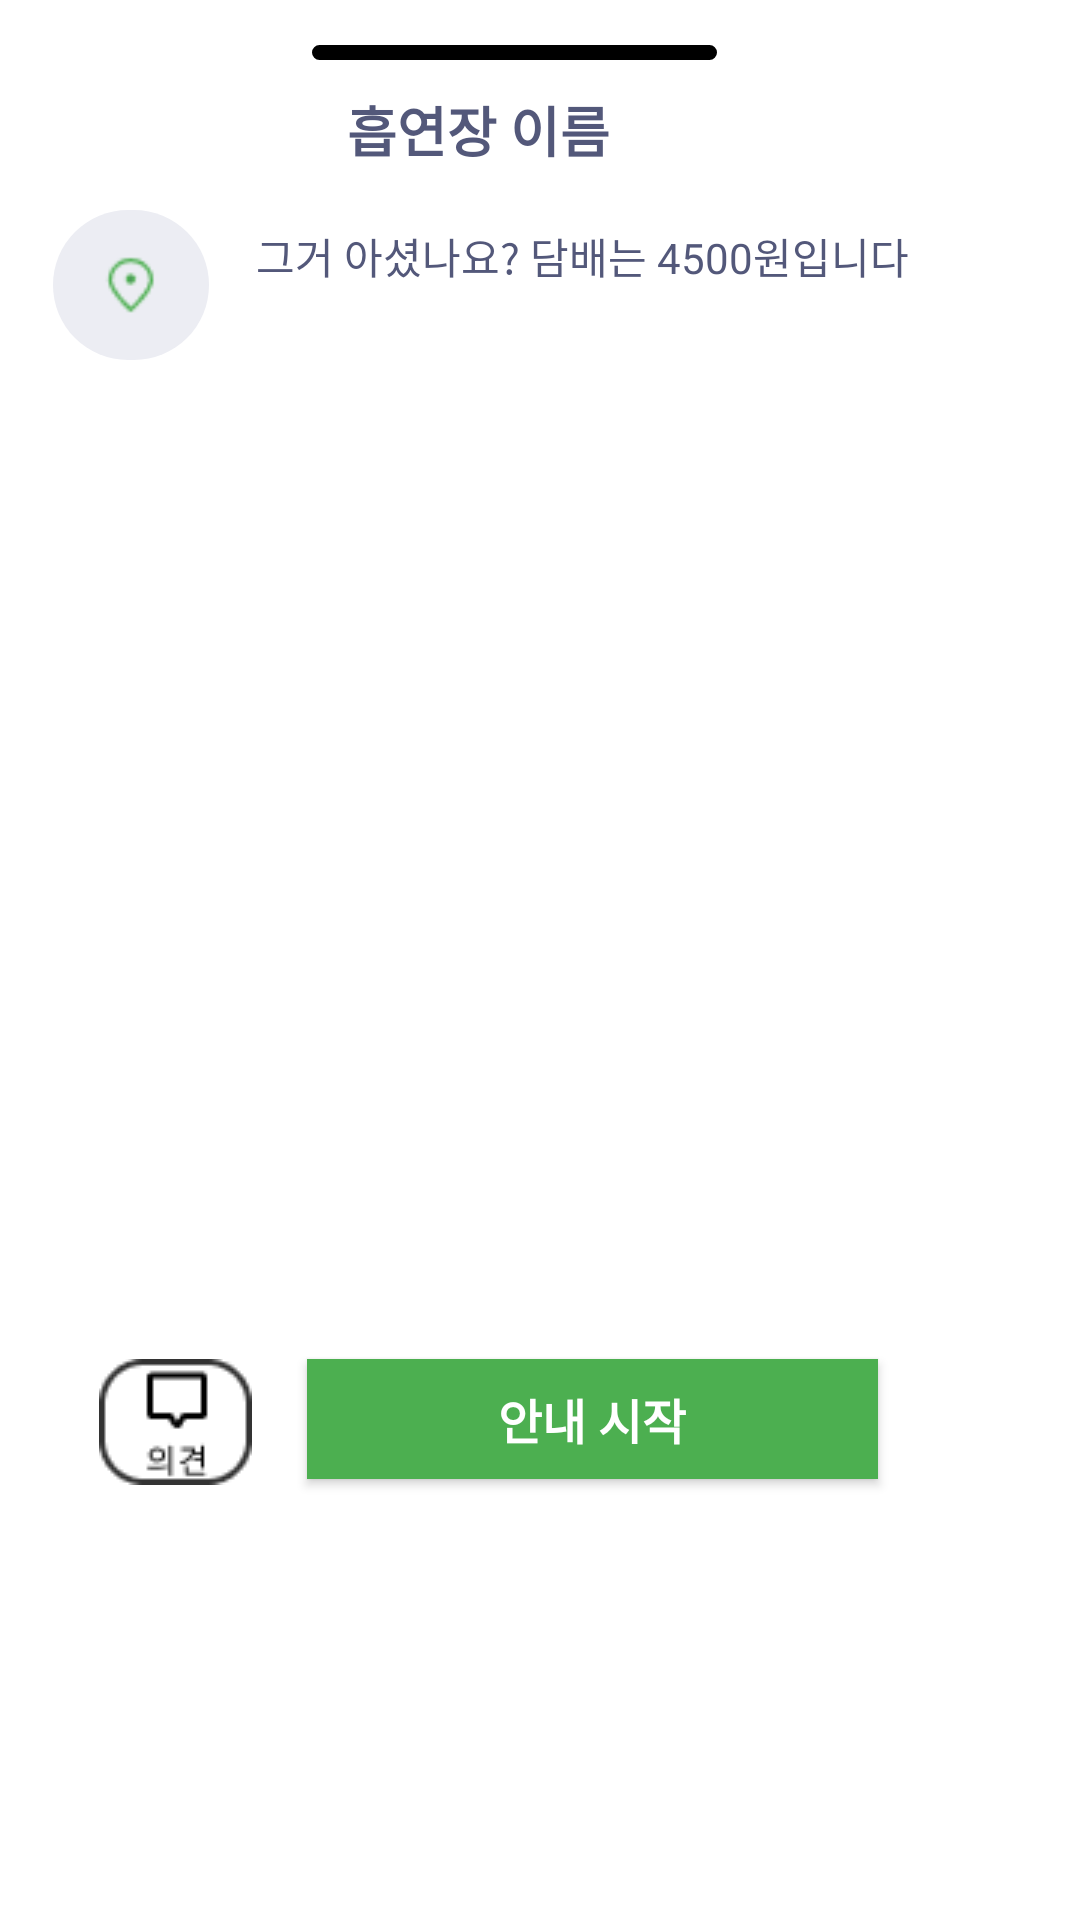

Icon click points for this 1080 × 1920 phone screenshot, format (x=x, y=y):
pin: (x=130, y=285)
